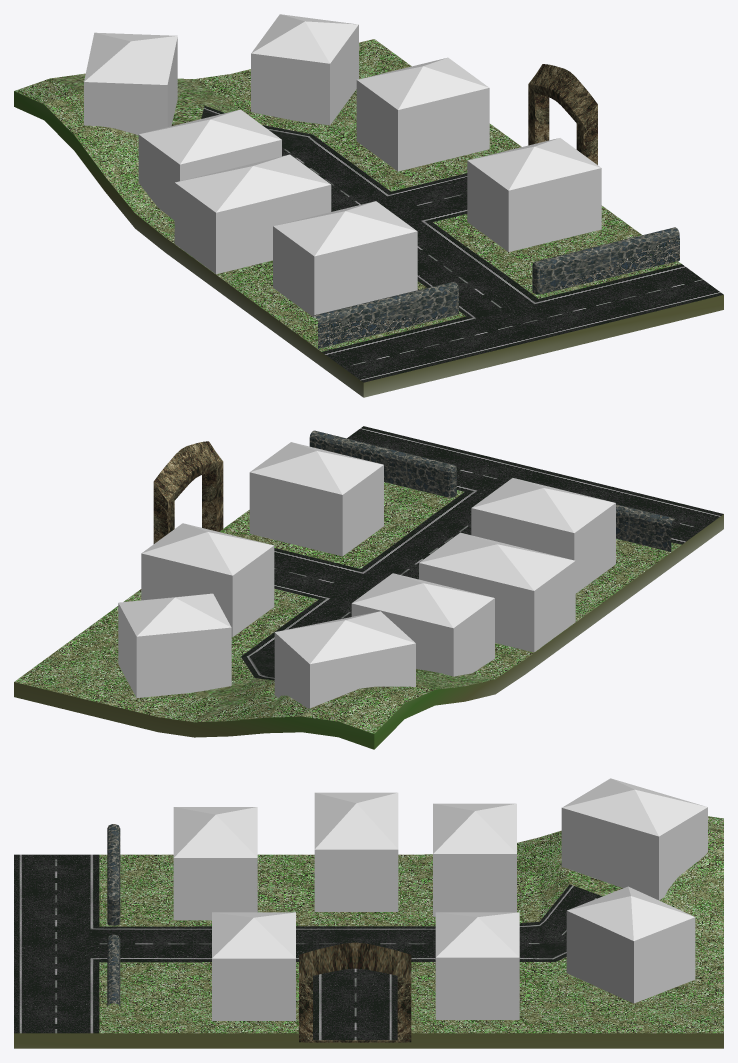
Rendered from neighbourhood.glb.
The picture shows the model from 3 angles, top to bottom: view 1: azimuth 30°, elevation 25°; view 2: azimuth 150°, elevation 25°; view 3: azimuth 270°, elevation 25°; orthographic projection.
Visible parts, largest first — view 1: Ground, House.001, House.003, House.008, House.006, wall.005, House.005, House.002, House.004, Tunnel; view 2: Ground, House.008, House.003, House.005, House.002, House.006, House.001, House.004, wall.005, Tunnel; view 3: Ground, House.002, House.005, House.003, House.001, House.004, House.006, House.008, Tunnel, wall.005.
Part boxes in pixels (x1,y1,x2,y2): Ground: (14,39,723,397); House.001: (273,201,417,317); House.003: (174,154,331,274); House.008: (467,138,601,251); House.006: (356,57,489,171); wall.005: (313,227,679,348); House.005: (251,14,358,125); House.002: (84,32,177,135); House.004: (138,109,281,220); Tunnel: (528,64,597,164); Ground: (14,426,723,749); House.008: (249,442,383,556); House.003: (419,532,575,652); House.005: (118,593,231,697); House.002: (274,611,415,708); House.006: (141,523,274,636); House.001: (471,478,615,593); House.004: (351,573,494,676); wall.005: (309,430,676,551); Tunnel: (153,441,223,543); Ground: (14,816,723,1048); House.002: (561,778,707,900); House.005: (566,886,695,1003); House.003: (314,792,398,911); House.001: (173,807,257,920); House.004: (433,803,516,916); House.006: (435,912,519,1019); House.008: (212,912,295,1020); Tunnel: (299,942,411,1042); wall.005: (107,824,120,1007).
Bounding box in the file's own units: 51.99 × 15.23 × 84.01.
Materials: 4 (4 with a texture image).
